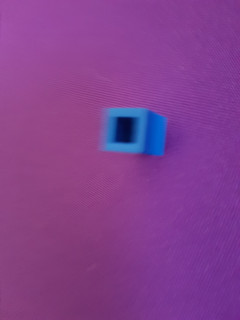1x1 blue: (95, 104, 171, 159)
